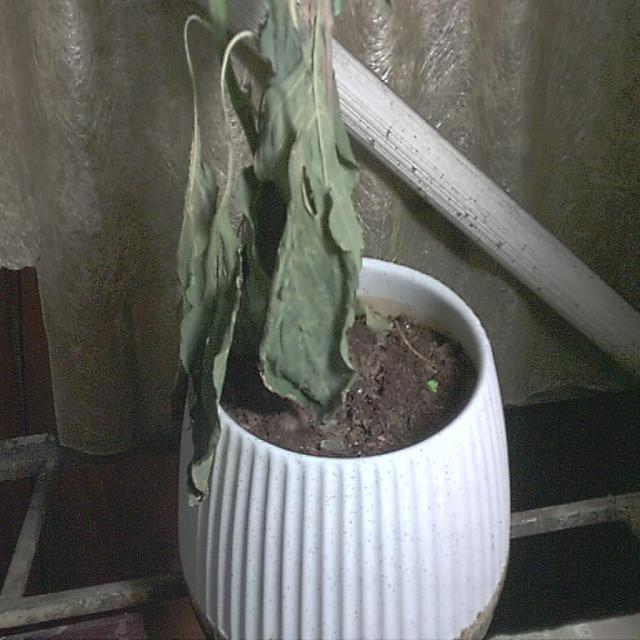Leaf: (258, 132, 357, 418)
